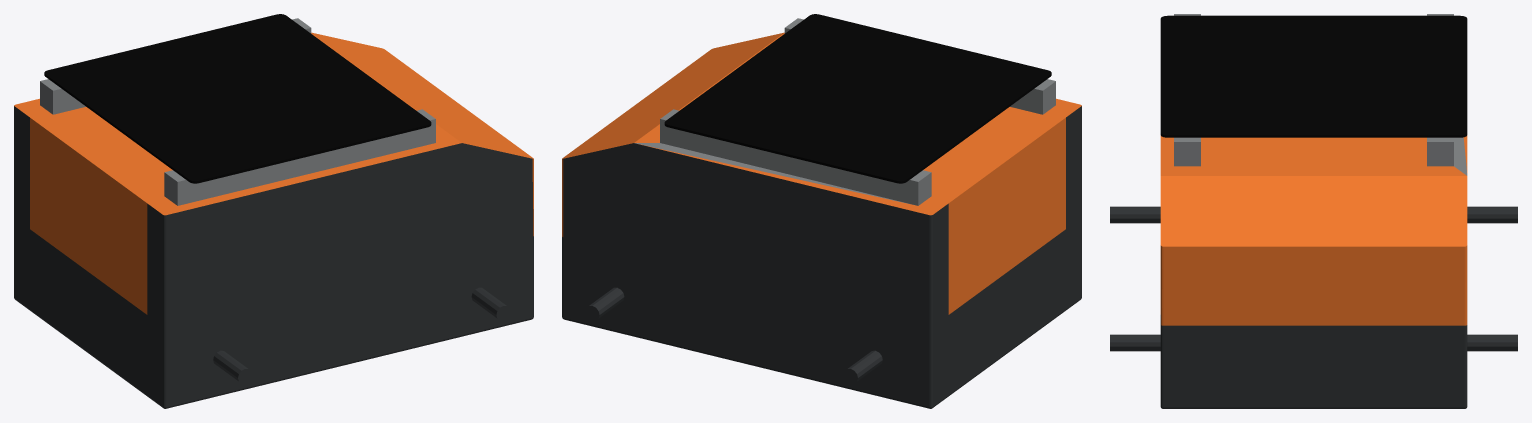
Rendered from copernicus.dae.
3 renders of one model, left to right at view 1: azimuth 30°, elevation 25°; view 2: azimuth 150°, elevation 25°; view 3: azimuth 270°, elevation 25°, orthographic.
Visible parts, largest first — view 1: Copernicus Simple; view 2: Copernicus Simple; view 3: Copernicus Simple.
Part boxes in pixels (x1,y1,x2,y2): Copernicus Simple: (14,14,533,408); Copernicus Simple: (562,14,1081,408); Copernicus Simple: (1110,14,1517,408).
Size of the model in its own units: 6.46 by 6.06 by 3.68.
